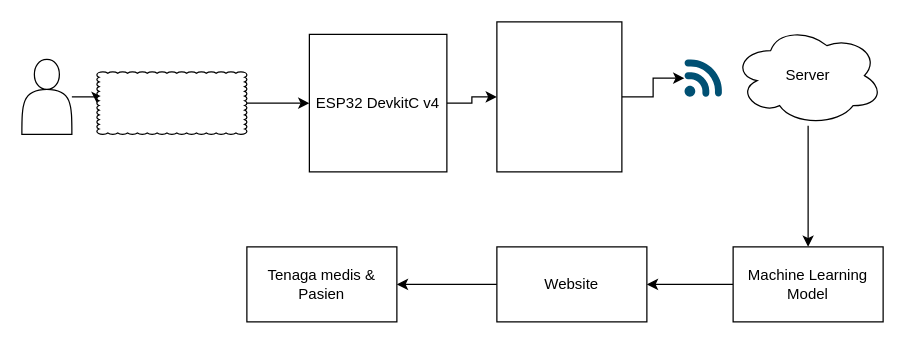
Image size: 905x344. Some labels were removed from this diagram. The box of each missing label's shape, as (x1, y1, x2, y2) in pixels:
Raspiberry Pi 4: (496, 21, 622, 172)
Sensor ECG AD8232: (96, 71, 247, 134)
